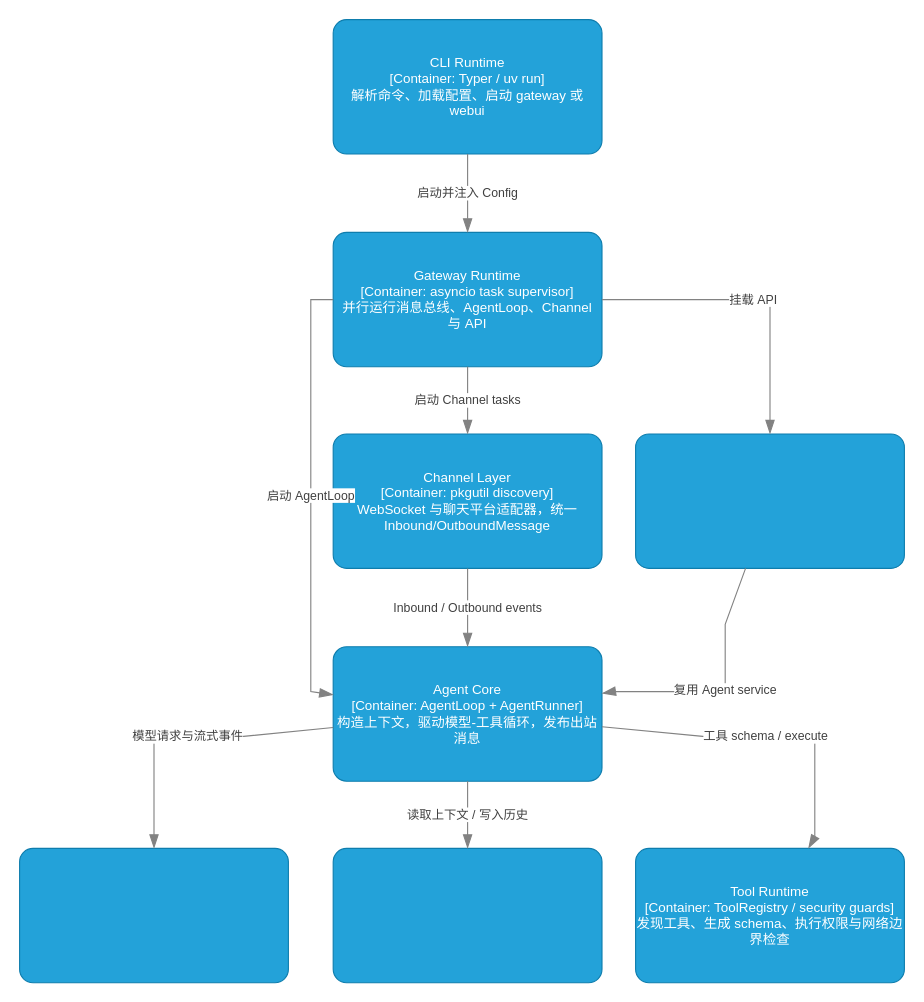
This 924x1002 diagram has some shape labels left out. The shapes that lost their labels are listed below. From the top down, each one's centre as x and y in pixels, then its label:
At [769,500]: "OpenAI-compatible API [Container: FastAPI] 提供 /v1/chat/completions 与 /v1/models".
At [153,915]: "Provider Layer [Container: ProviderFactory / Registry] 统一不同模型供应商、流式响应和重试".
At [467,915]: "Session & Memory [Container: JSONL + atomic writes] 持久化历史、长期记忆、压缩与目标状态".
